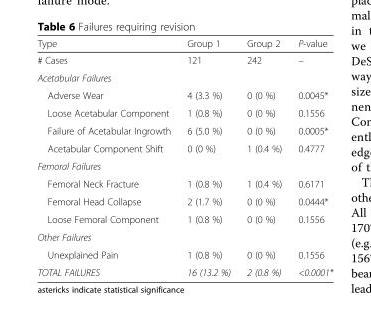table: (36, 37, 332, 277)
table column: (36, 37, 178, 277), (178, 37, 238, 277), (238, 37, 289, 277), (289, 37, 332, 277)
table column header: (36, 37, 332, 51)
table projected row header: (36, 68, 332, 86), (36, 156, 332, 174), (36, 227, 332, 245)
table row: (36, 68, 332, 86), (36, 103, 332, 121), (36, 121, 332, 139), (36, 156, 332, 174), (36, 174, 332, 192), (36, 192, 332, 210), (36, 227, 332, 245), (36, 245, 332, 263), (36, 51, 332, 68), (36, 86, 332, 103), (36, 139, 332, 156), (36, 210, 332, 227), (36, 37, 332, 51), (36, 263, 332, 277)
